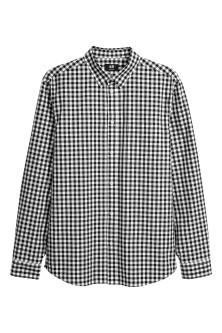teeshirt: (7, 45, 216, 297)
